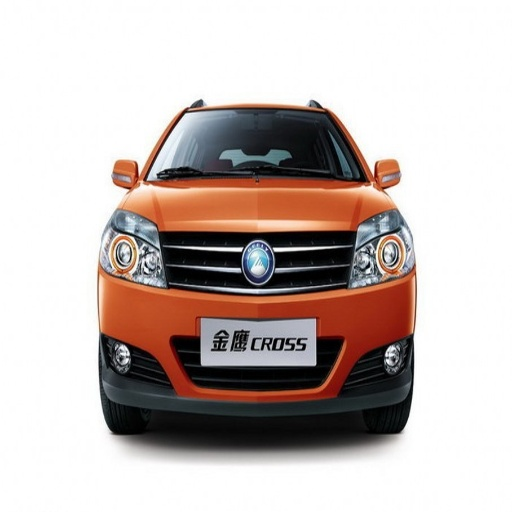front_bumper: (99, 271, 414, 415)
front_right_light: (100, 210, 169, 289)
hood: (129, 176, 388, 288), (171, 254, 273, 287)
